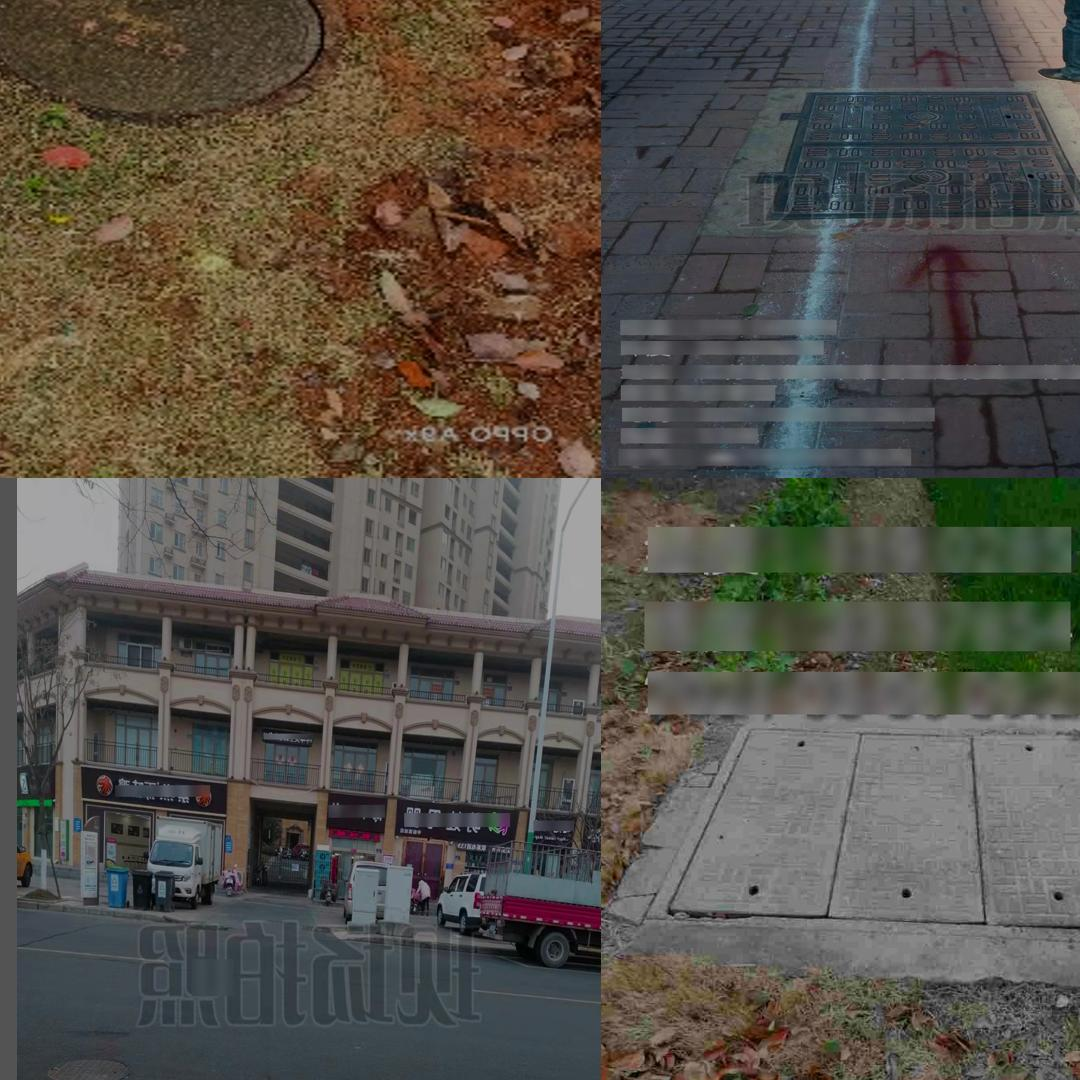good: (640, 719, 1080, 941), (0, 0, 339, 126), (754, 88, 1080, 219)
